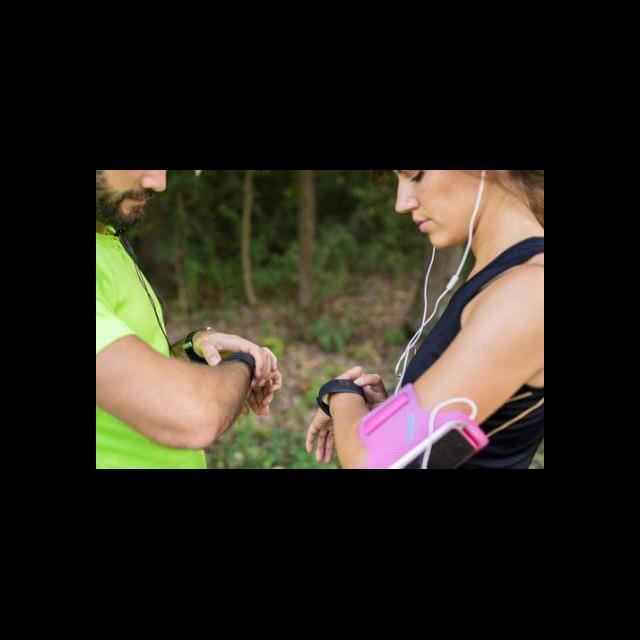watch: (317, 368, 368, 418), (224, 336, 268, 382)
